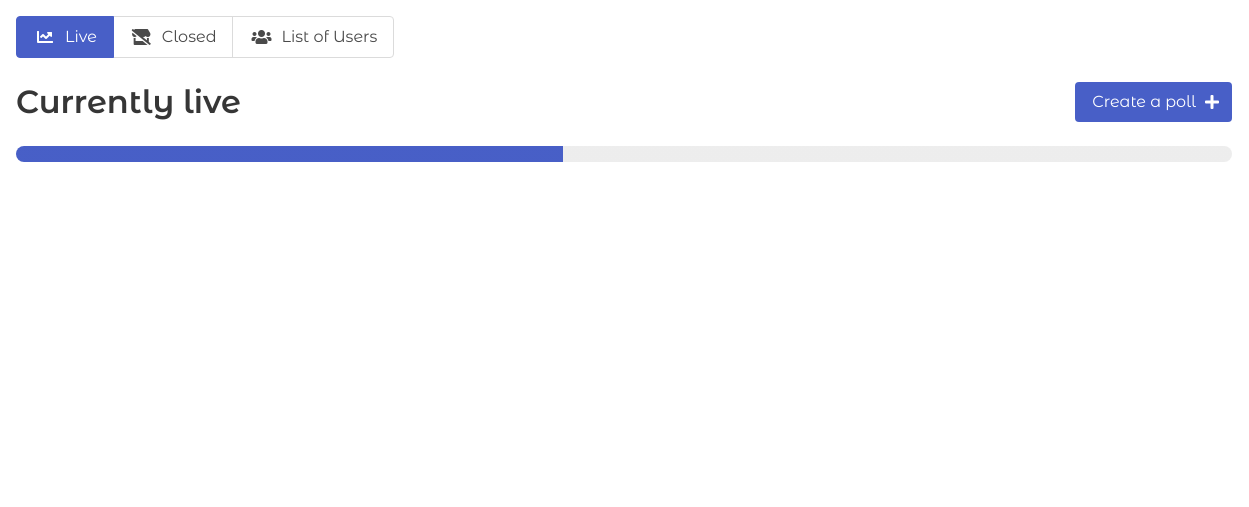
Test case: <Home /> for admin user › Switches to Closed tab when clicked
Click the list item with test id "ClosedTab" at (173, 37), box [113,16,234,58]
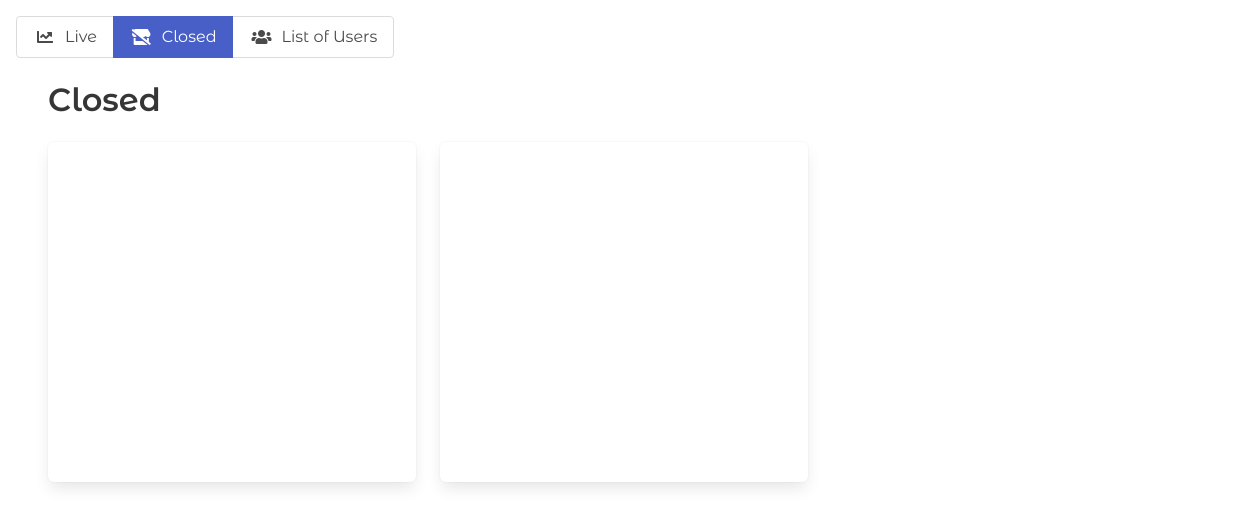
Check: the heading "Closed" is shown, box [48,80,161,119]
